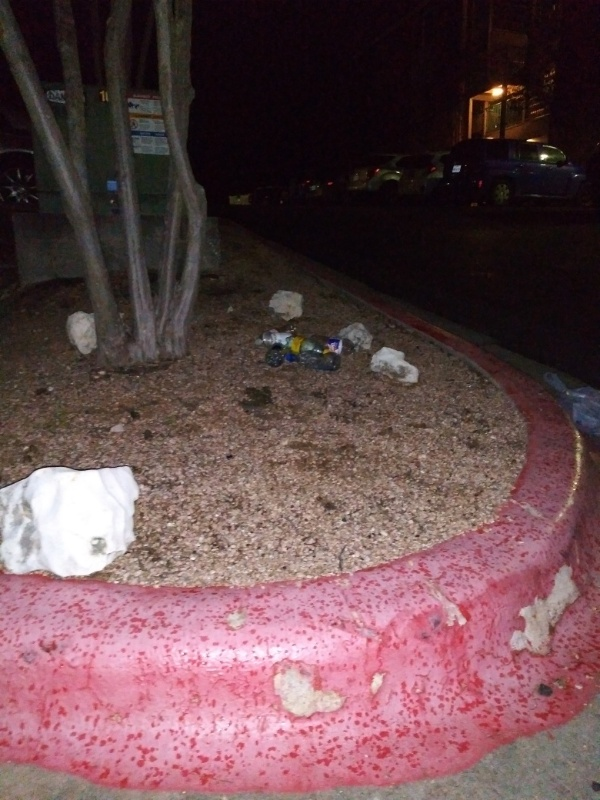bottle: (281, 351, 344, 375), (282, 336, 333, 361), (249, 324, 299, 348), (313, 335, 363, 358), (262, 347, 287, 369)
